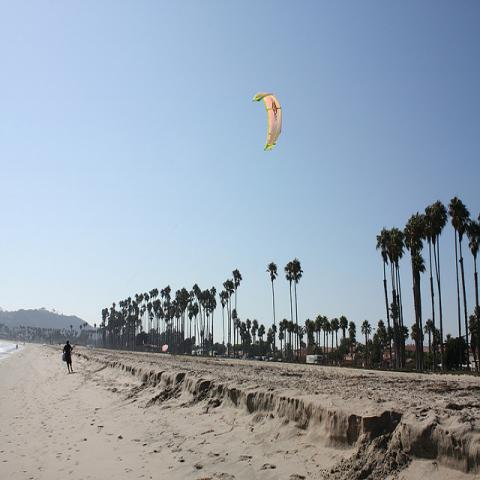truck: (306, 354, 322, 366)
